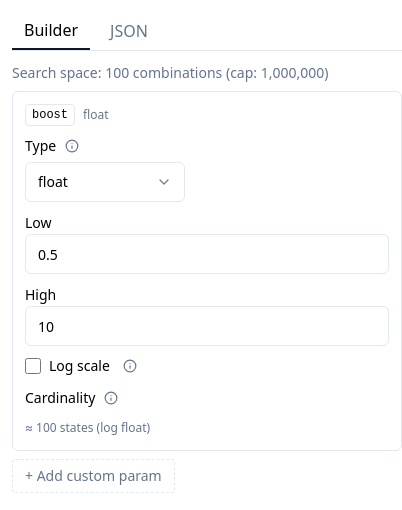
Test: SearchSpaceBuilder responsive layout (Story 3.1) › (c) clicking JSON tab applies hidden to builder slot; textarea still in DOM
What coordinates should you click on to do the following:
click the tab with test id "cs-builder-tab-json"
I would click on:
 (129, 31)
Its box is x1=98 y1=12 x2=160 y2=50.
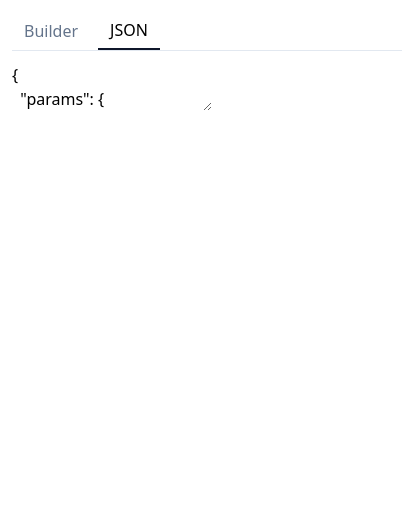
expect the text box with test id "cs-search-space" is shown: met, box x1=12 y1=63 x2=212 y2=111
